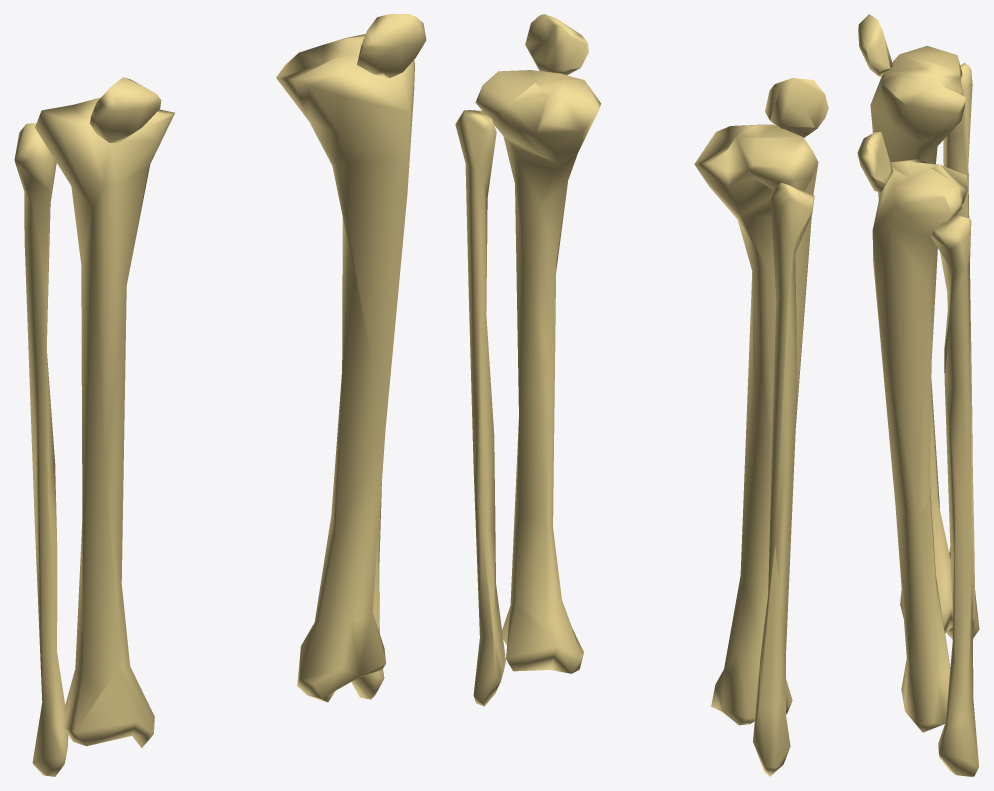
The model's file is knee-HQG3XAF2.glb.
The picture shows the model from 3 angles, left to right: view 1: azimuth 30°, elevation 25°; view 2: azimuth 150°, elevation 25°; view 3: azimuth 270°, elevation 25°; orthographic projection. The views are drawn at different scales.
Parts seen in each view (by area): view 1: knee:tibia:isa:FJ3282, knee:tibia:isa:FJ3387, knee:fibula:isa:FJ3366, knee:patella:isa:FJ3275, knee:patella:isa:FJ3381, knee:fibula:isa:FJ3260; view 2: knee:tibia:isa:FJ3282, knee:tibia:isa:FJ3387, knee:fibula:isa:FJ3366, knee:fibula:isa:FJ3260, knee:patella:isa:FJ3381, knee:patella:isa:FJ3275; view 3: knee:tibia:isa:FJ3282, knee:fibula:isa:FJ3260, knee:tibia:isa:FJ3387, knee:fibula:isa:FJ3366, knee:patella:isa:FJ3275, knee:patella:isa:FJ3381.
Part boxes in pixels (x1,y1,x2,y2): knee:tibia:isa:FJ3282: (276, 34, 414, 702); knee:tibia:isa:FJ3387: (35, 97, 174, 747); knee:fibula:isa:FJ3366: (14, 123, 68, 776); knee:patella:isa:FJ3275: (357, 14, 426, 77); knee:patella:isa:FJ3381: (90, 77, 161, 142); knee:fibula:isa:FJ3260: (351, 483, 384, 699); knee:tibia:isa:FJ3282: (475, 70, 600, 673); knee:tibia:isa:FJ3387: (694, 124, 818, 725); knee:fibula:isa:FJ3366: (753, 182, 814, 776); knee:fibula:isa:FJ3260: (455, 110, 505, 706); knee:patella:isa:FJ3381: (765, 78, 828, 137); knee:patella:isa:FJ3275: (525, 14, 588, 75); knee:tibia:isa:FJ3282: (872, 159, 967, 732); knee:fibula:isa:FJ3260: (931, 214, 978, 776); knee:tibia:isa:FJ3387: (870, 46, 965, 633); knee:fibula:isa:FJ3366: (943, 63, 979, 639); knee:patella:isa:FJ3275: (857, 132, 893, 192); knee:patella:isa:FJ3381: (858, 14, 892, 76).
Bounding box in the file's own units: 0.239 × 0.4257 × 0.0743.
